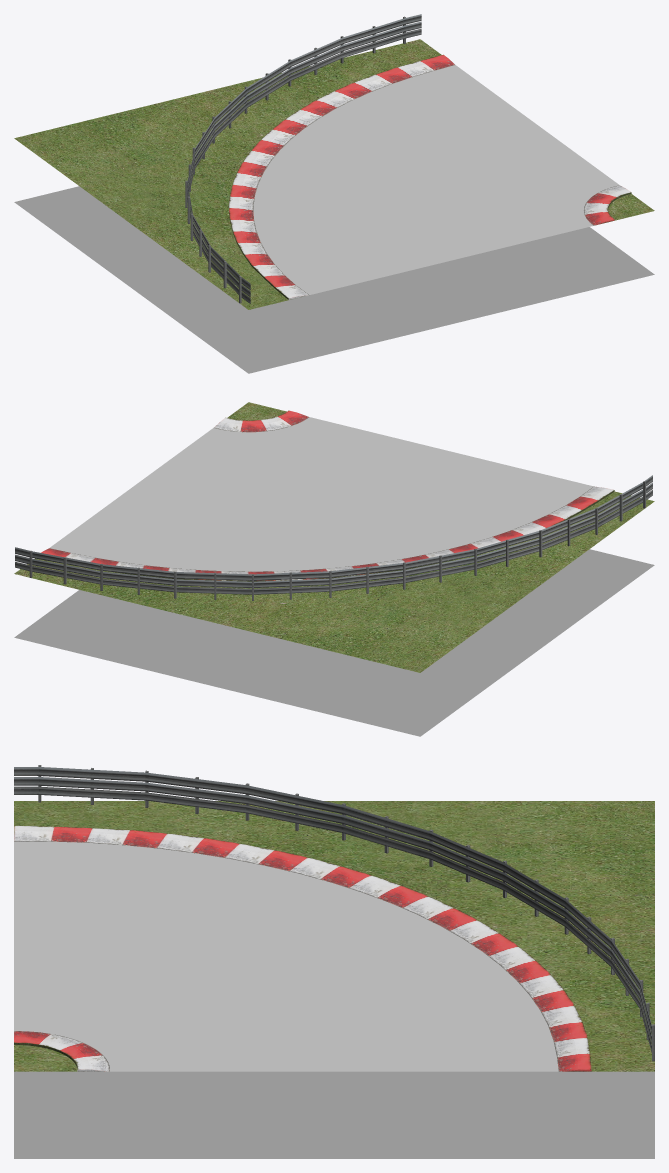
File: Track_Curve_B_Flipped_Mobile.fbx
3 renders of one model, top to bottom at view 1: azimuth 30°, elevation 25°; view 2: azimuth 150°, elevation 25°; view 3: azimuth 270°, elevation 25°, orthographic. The views are drawn at different scales.
Visible parts, largest first — view 1: Road, Snap_Plane_Invisible, Grass, Curb_A, Rail, Curb_B; view 2: Road, Snap_Plane_Invisible, Grass, Rail, Curb_A, Curb_B; view 3: Road, Snap_Plane_Invisible, Grass, Rail, Curb_A, Curb_B.
Part boxes in pixels (left/top/right/bottom): Road: left=253, top=65, right=619, bottom=294; Snap_Plane_Invisible: left=14, top=186, right=654, bottom=373; Grass: left=14, top=39, right=654, bottom=309; Curb_A: left=228, top=54, right=454, bottom=299; Rail: left=185, top=14, right=421, bottom=303; Curb_B: left=584, top=185, right=631, bottom=225; Road: left=49, top=417, right=593, bottom=571; Snap_Plane_Invisible: left=14, top=549, right=654, bottom=736; Grass: left=14, top=402, right=654, bottom=672; Rail: left=15, top=475, right=652, bottom=600; Curb_A: left=41, top=486, right=614, bottom=581; Curb_B: left=214, top=410, right=308, bottom=432; Road: left=14, top=841, right=558, bottom=1071; Snap_Plane_Invisible: left=14, top=1071, right=654, bottom=1158; Grass: left=14, top=801, right=654, bottom=1071; Rail: left=14, top=765, right=654, bottom=1061; Curb_A: left=14, top=825, right=591, bottom=1071; Curb_B: left=14, top=1031, right=109, bottom=1071.
Bounding box in the file's own units: 20 × 4.24 × 20.
